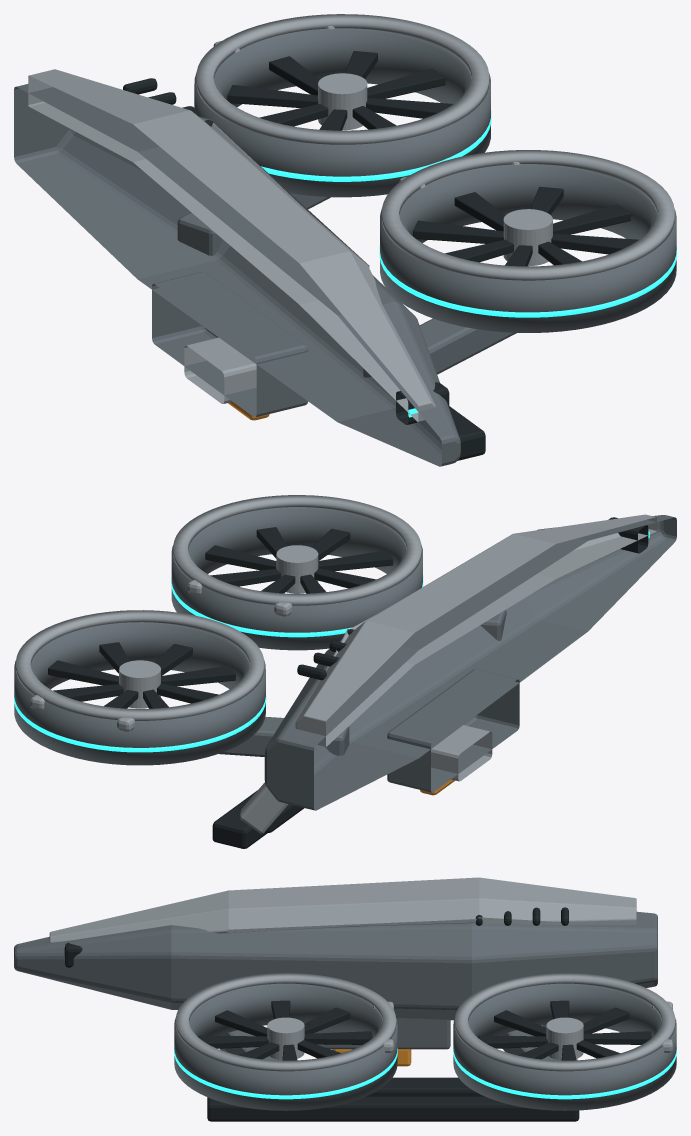
File: salvage-proposal.glb
The picture shows the model from 3 angles, top to bottom: view 1: azimuth 30°, elevation 25°; view 2: azimuth 150°, elevation 25°; view 3: azimuth 270°, elevation 25°; orthographic projection. The views are drawn at different scales.
Visible parts, largest first — view 1: Keel, Dorsal_Shell, Duct_0, Duct_1, Winch_Bay, Duct_Lip_1, Duct_Lip_0, Winch_Drum, Load_Boom_0, Rotor_Hub_0, Rotor_Hub_1, Duct_Link_0 (+13 smaller); view 2: Keel, Duct_1, Dorsal_Shell, Duct_0, Winch_Bay, Duct_Lip_0, Duct_Lip_1, Winch_Drum, Load_Boom_1, Load_Skid, Rotor_Hub_0, Rotor_Hub_1 (+16 smaller); view 3: Keel, Dorsal_Shell, Duct_1, Duct_0, Load_Skid, Duct_Lip_0, Duct_Lip_1, Winch_Bay, Skid, Rotor_Hub_1, Rotor_Hub_0, Duct_Link_0 (+13 smaller).
Boxes of the visible parts, box(x1,y1,x2,y2) form: Keel: box(14, 84, 460, 466); Dorsal_Shell: box(28, 69, 435, 422); Duct_0: box(380, 164, 676, 332); Duct_1: box(194, 28, 490, 197); Winch_Bay: box(152, 272, 308, 417); Duct_Lip_1: box(196, 14, 489, 144); Duct_Lip_0: box(382, 150, 674, 280); Winch_Drum: box(184, 337, 256, 403); Load_Boom_0: box(363, 318, 516, 377); Rotor_Hub_0: box(503, 209, 552, 266); Rotor_Hub_1: box(318, 73, 367, 130); Duct_Link_0: box(379, 246, 676, 317); Keel: box(264, 515, 676, 810); Duct_1: box(14, 622, 265, 765); Dorsal_Shell: box(295, 514, 656, 746); Duct_0: box(171, 507, 422, 650); Winch_Bay: box(387, 669, 519, 792); Duct_Lip_0: box(173, 495, 421, 605); Duct_Lip_1: box(16, 610, 264, 720); Winch_Drum: box(431, 725, 492, 781); Load_Boom_1: box(219, 716, 349, 756); Load_Skid: box(212, 790, 267, 848); Rotor_Hub_0: box(276, 545, 318, 593); Rotor_Hub_1: box(119, 660, 160, 708); Keel: box(14, 911, 657, 1020); Dorsal_Shell: box(49, 877, 636, 943); Duct_1: box(453, 983, 676, 1110); Duct_0: box(174, 983, 397, 1110); Load_Skid: box(207, 1096, 579, 1121); Duct_Lip_0: box(175, 973, 396, 1071); Duct_Lip_1: box(455, 973, 675, 1071); Winch_Bay: box(313, 1018, 450, 1049); Skid: box(366, 1077, 484, 1096); Rotor_Hub_1: box(546, 1017, 583, 1060); Rotor_Hub_0: box(267, 1017, 304, 1060); Duct_Link_0: box(174, 1047, 397, 1099).
Size of the model in its own units: 2.4 by 1.4 by 4.63.
